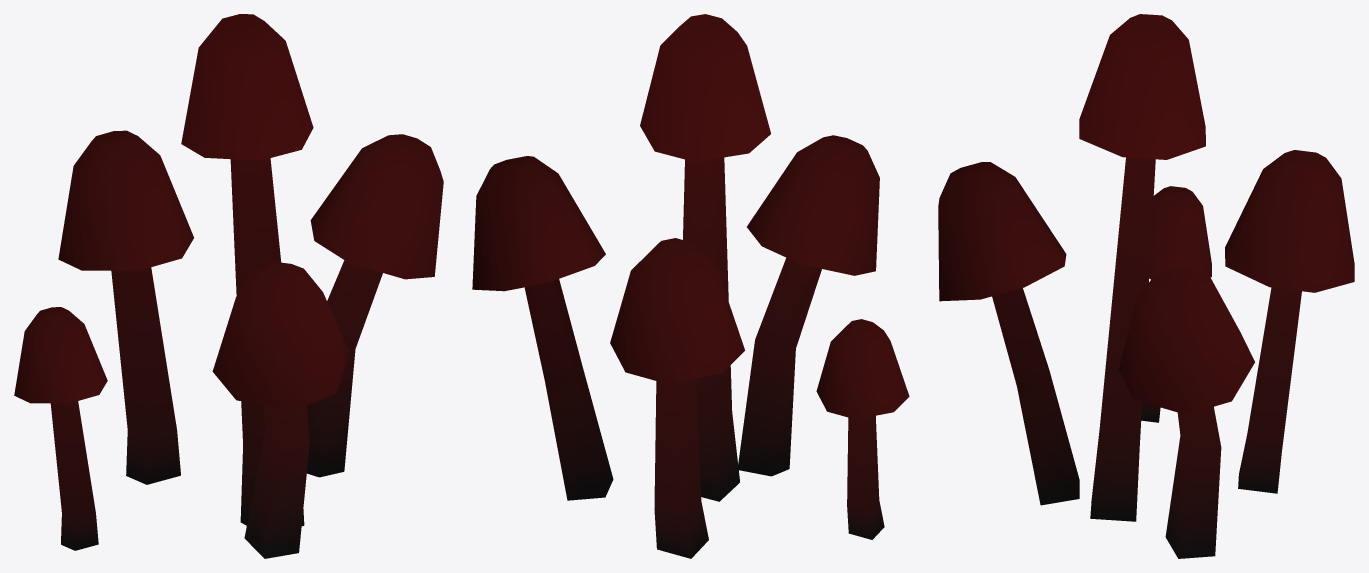
File: SM_Mushroom_Group1.fbx
3 renders of one model, left to right at view 1: azimuth 30°, elevation 25°; view 2: azimuth 150°, elevation 25°; view 3: azimuth 270°, elevation 25°, orthographic. The views are drawn at different scales.
Parts seen in each view (by area): view 1: Mushroom Group1; view 2: Mushroom Group1; view 3: Mushroom Group1.
Part boxes in pixels (x1=…): Mushroom Group1: x1=14, y1=14, x2=443, y2=558; Mushroom Group1: x1=472, y1=14, x2=909, y2=558; Mushroom Group1: x1=938, y1=14, x2=1354, y2=558.
Size of the model in its own units: 0.2977 by 0.332 by 0.258.
